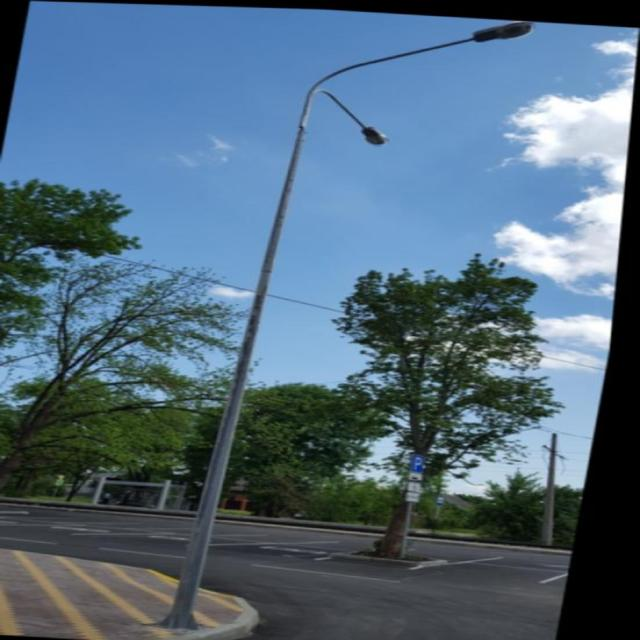pole: (177, 242, 266, 640)
